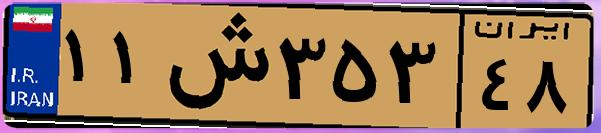1: (57, 26, 110, 100), (110, 28, 158, 98)
3: (270, 28, 330, 110), (385, 28, 445, 110)
4: (475, 38, 525, 113)
5: (330, 28, 385, 110)
8: (525, 38, 570, 115)
ش: (158, 12, 270, 120)
